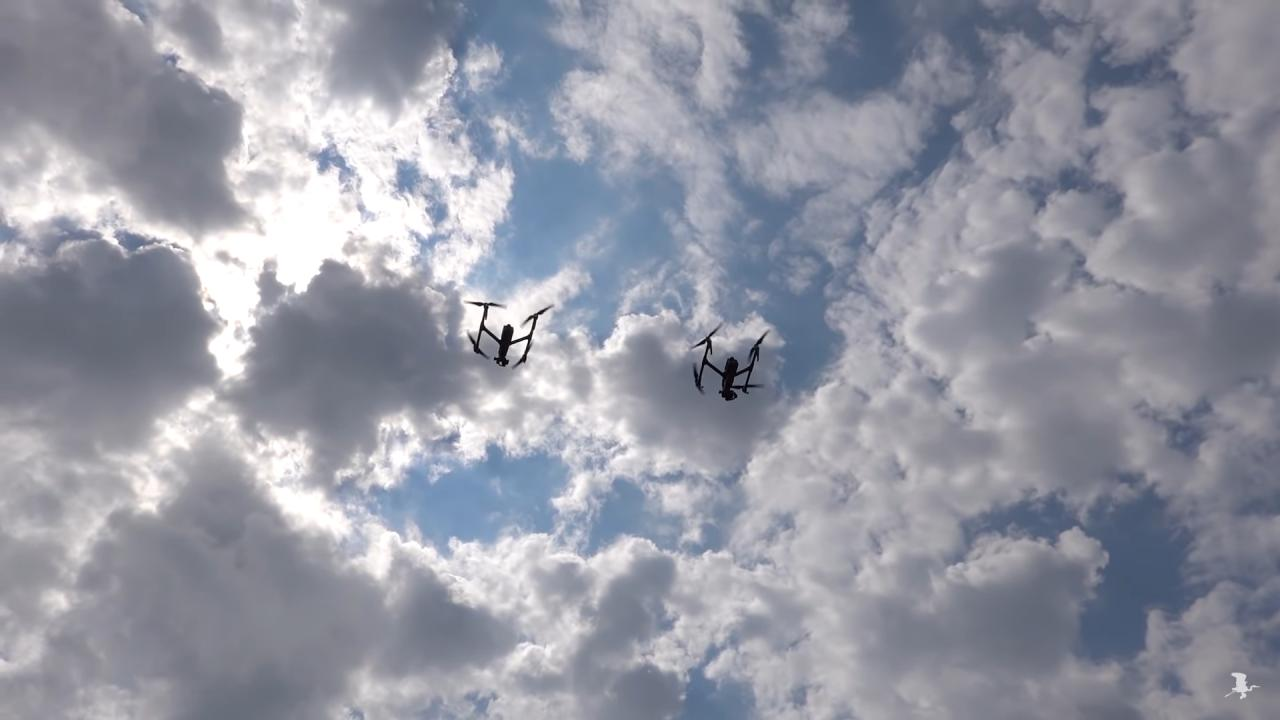Drone: (456, 292, 562, 376), (684, 317, 780, 406)
